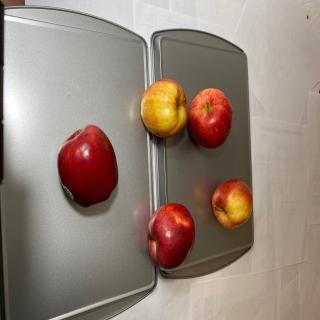Apple: (57, 124, 118, 208), (147, 203, 195, 272), (140, 78, 188, 138), (188, 88, 233, 149), (212, 178, 253, 230)
